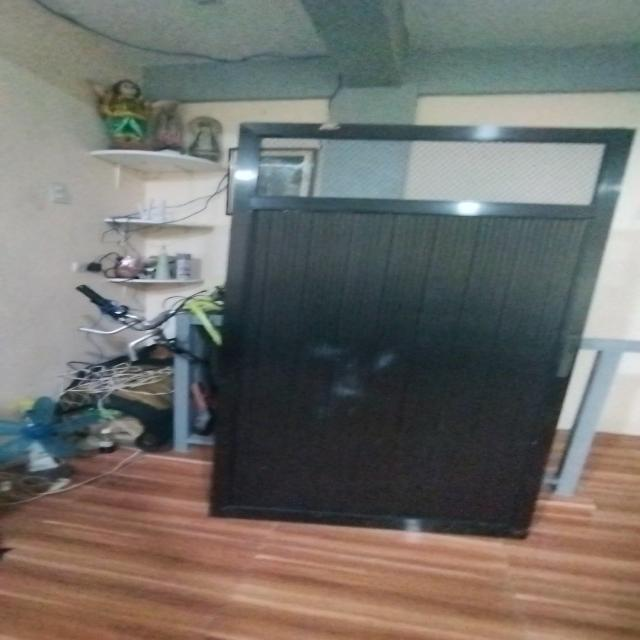door: (199, 114, 631, 540)
